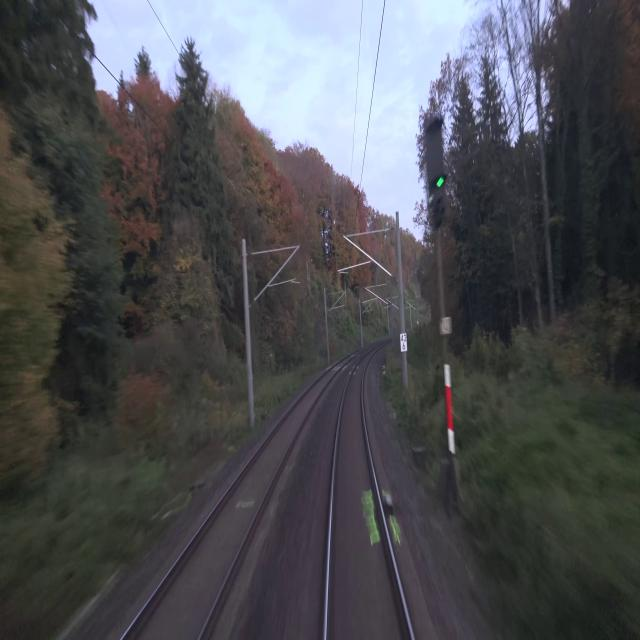rail-track: (125, 365, 338, 639), (328, 353, 410, 639)
